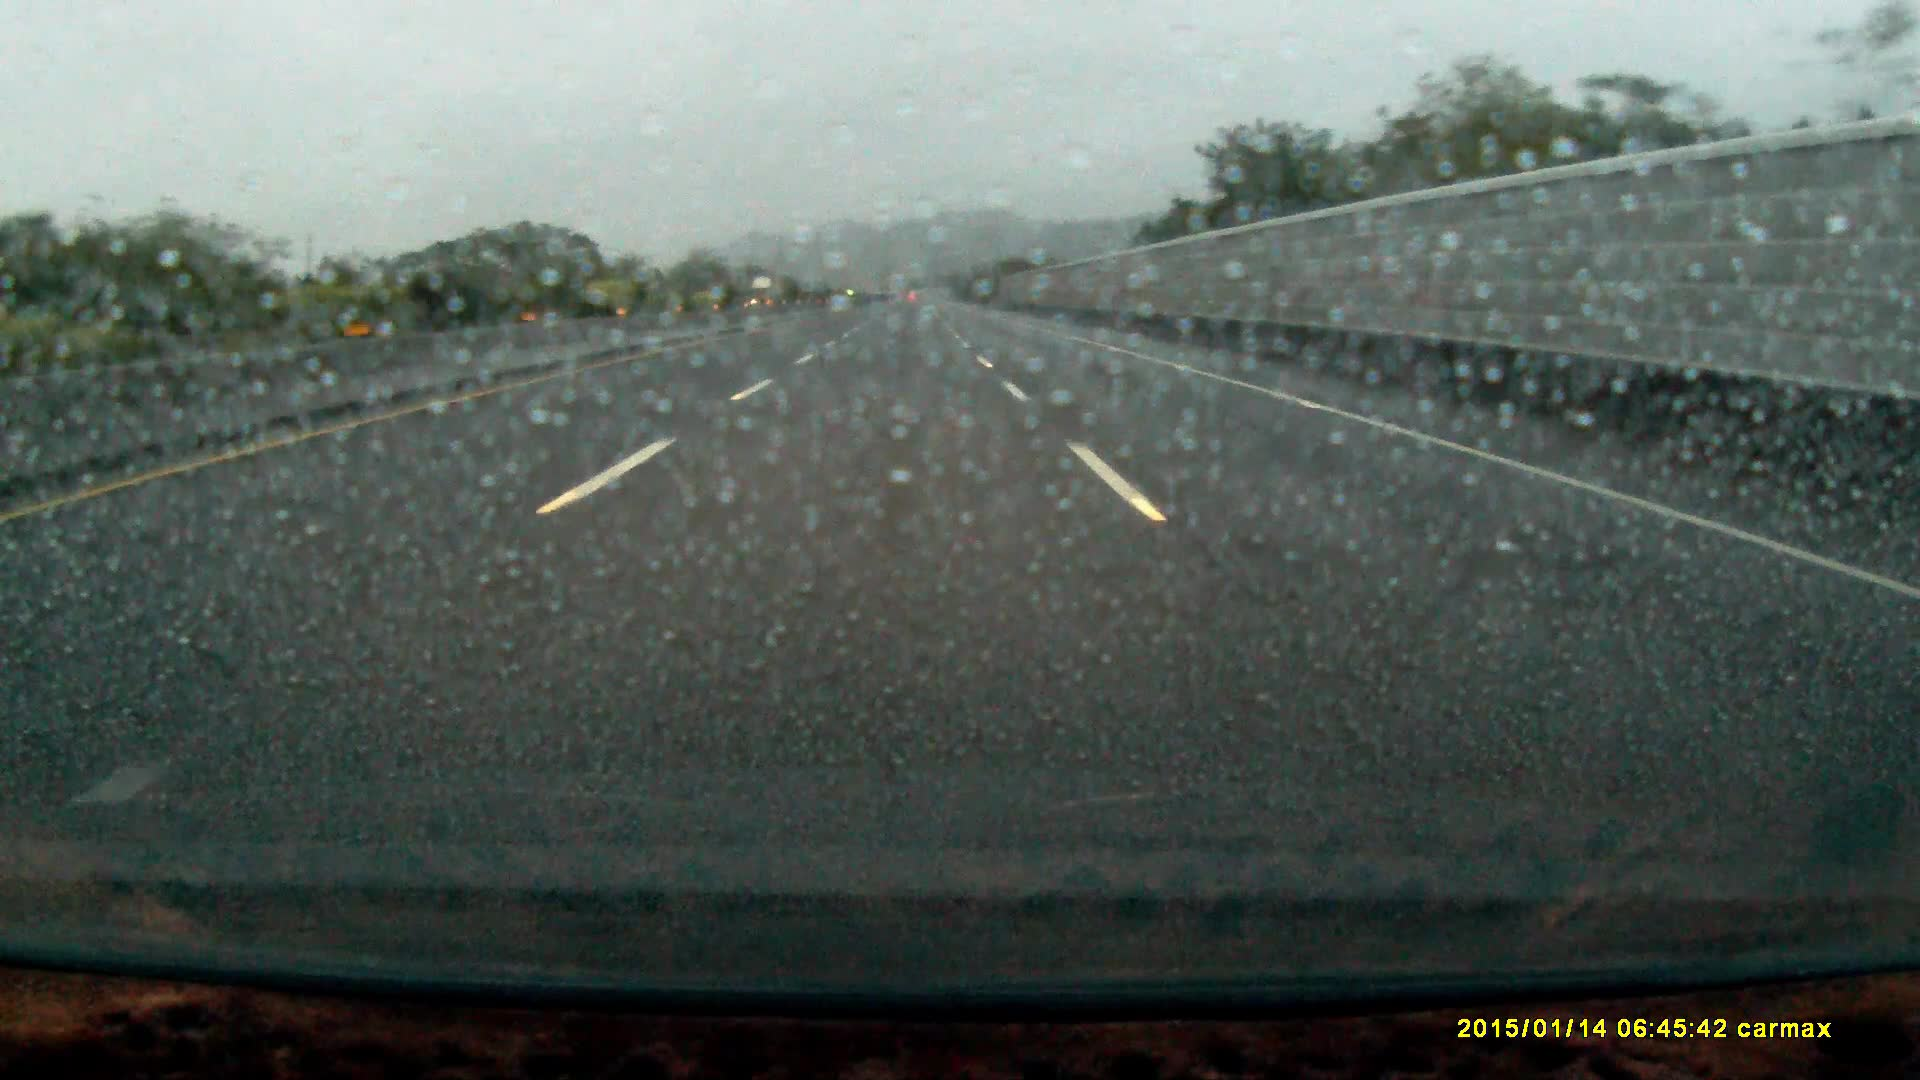vehicle: (752, 277, 781, 307)
